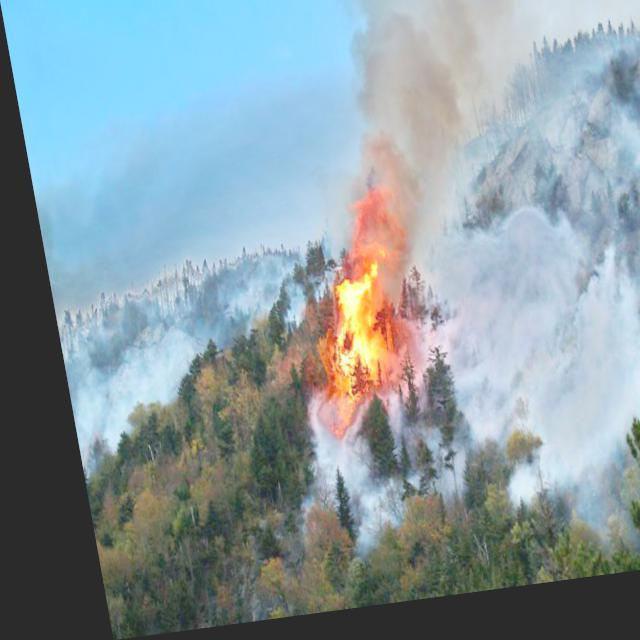Fire: (289, 198, 419, 436)
